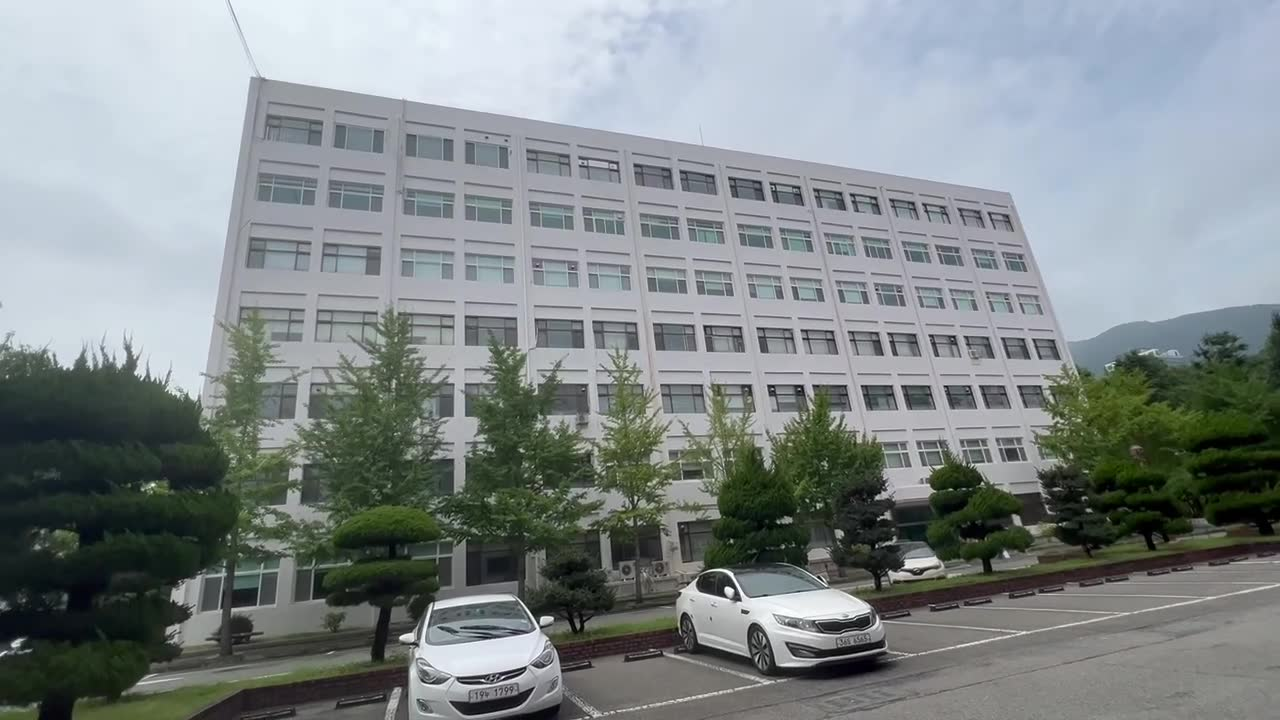low: (211, 84, 1052, 352)
